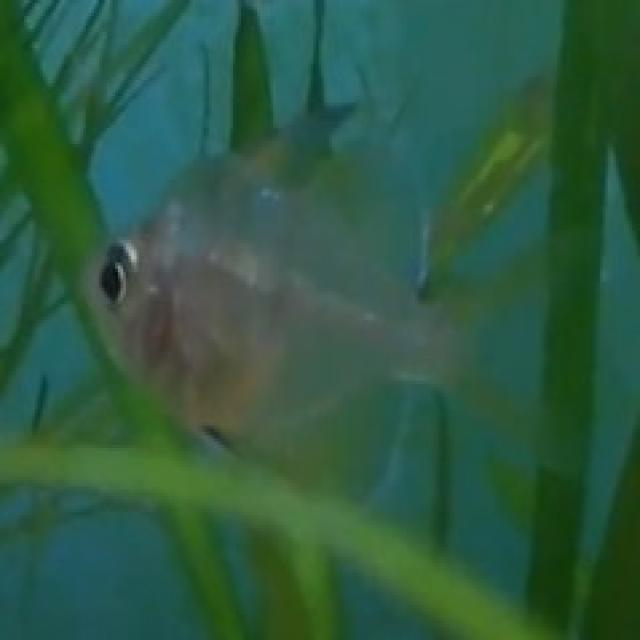Glass-Perchlet: (44, 90, 609, 542)
